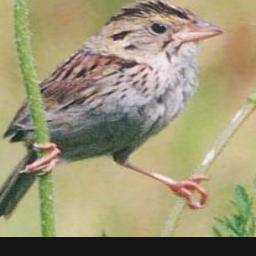Sparrow: (0, 0, 225, 228)
